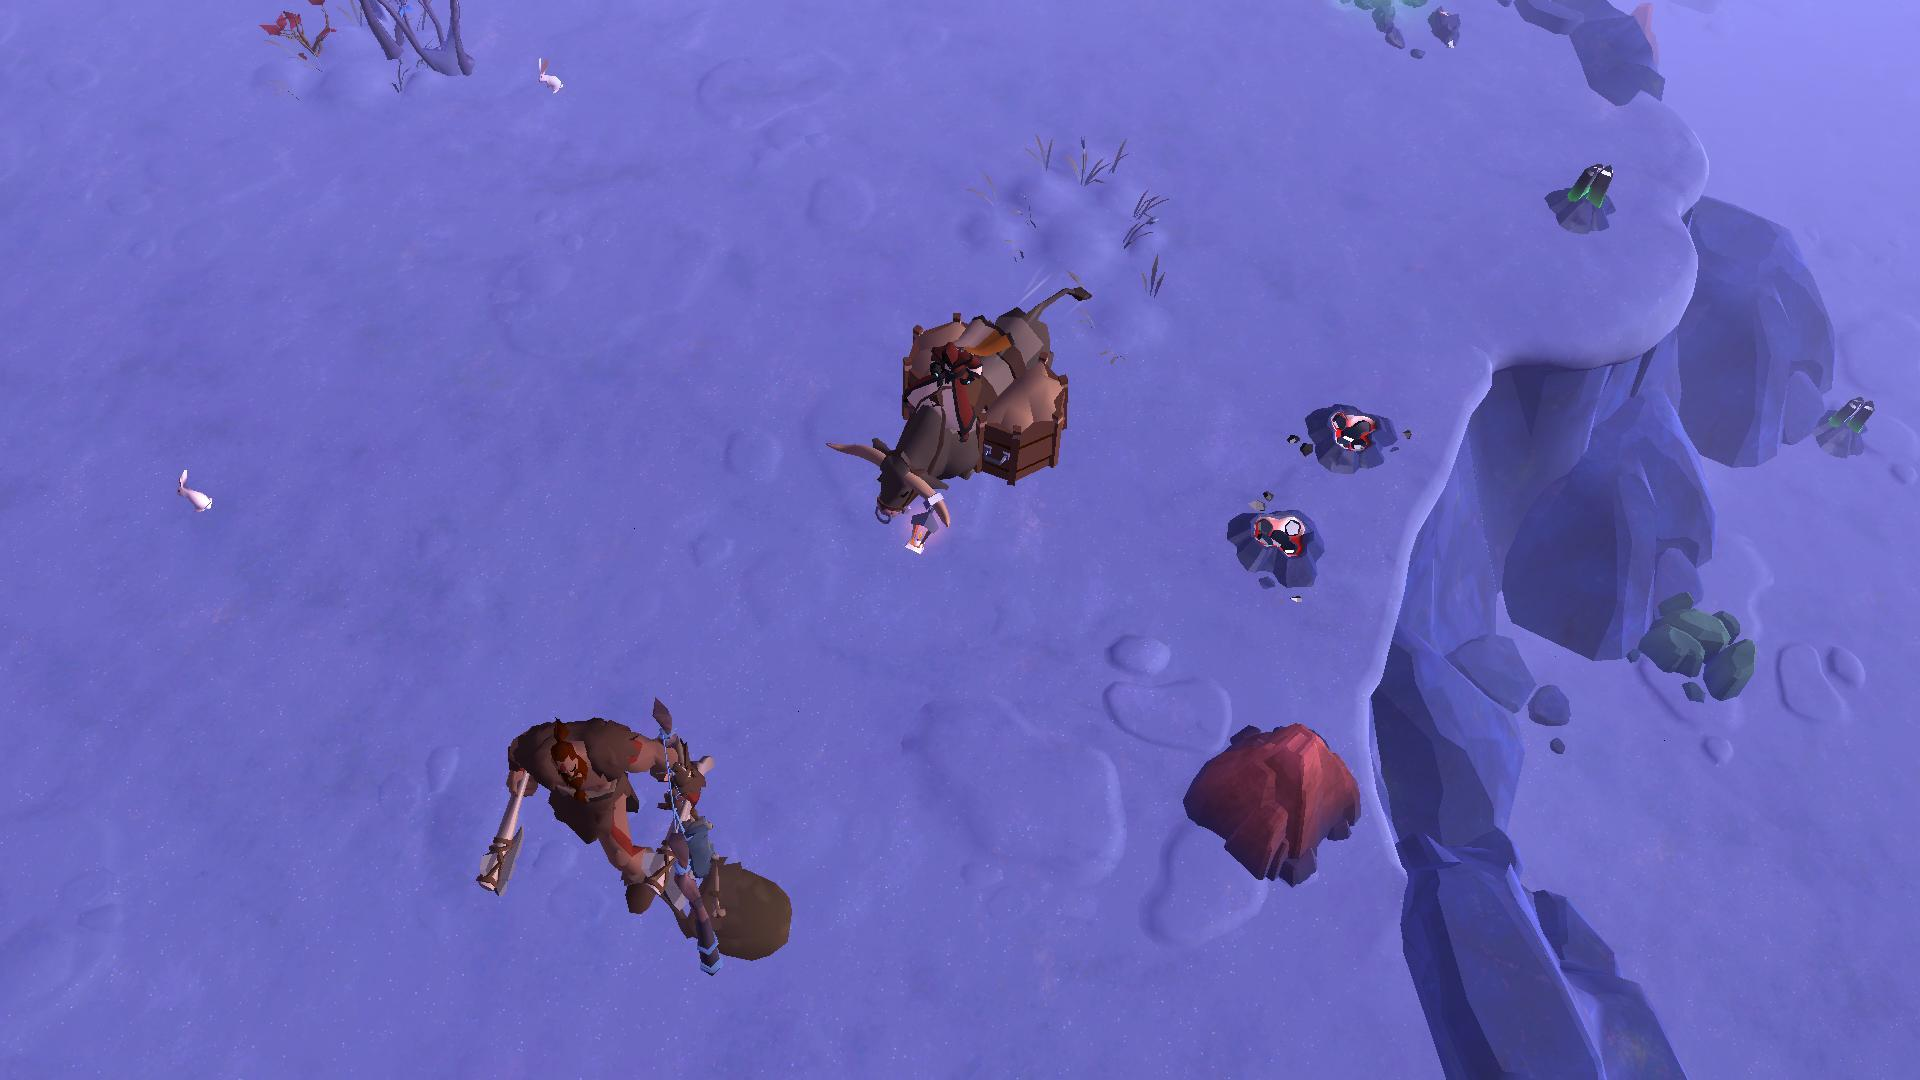enemy_factionKeeper: (480, 699, 691, 923)
ore_t3: (1556, 157, 1618, 208), (1828, 388, 1873, 444)
rock_t3: (1635, 579, 1758, 713)
rock_t5: (1178, 713, 1364, 885)
